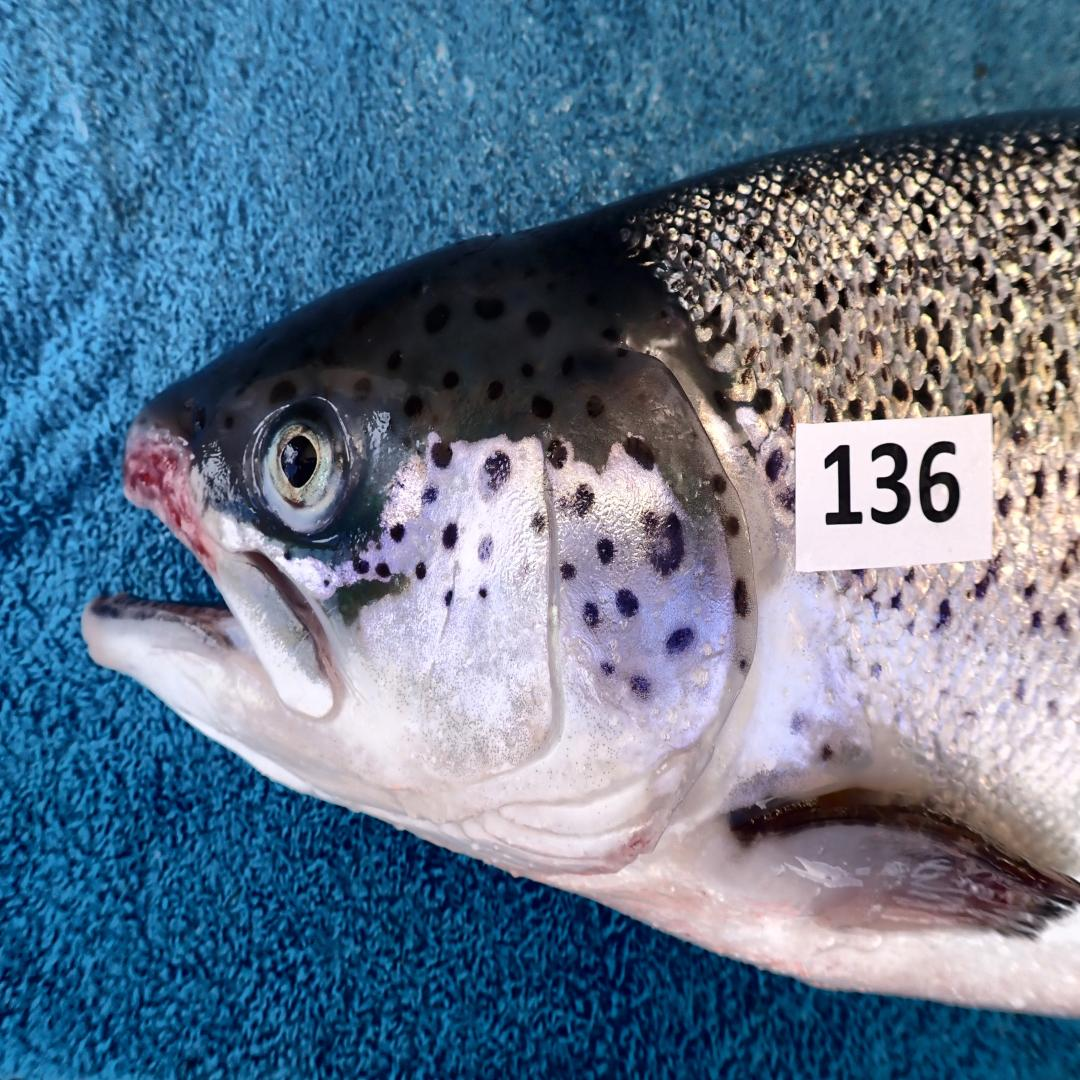spot: (641, 508, 683, 577), (478, 449, 510, 503), (559, 484, 595, 522), (624, 433, 656, 470), (667, 627, 694, 652), (734, 577, 750, 618), (546, 439, 567, 470), (616, 588, 639, 616), (430, 442, 454, 467), (597, 537, 614, 565), (631, 675, 650, 698), (582, 602, 599, 627), (479, 534, 494, 560), (443, 523, 458, 548), (712, 474, 728, 495), (726, 515, 740, 537), (390, 523, 405, 543), (532, 512, 546, 532), (422, 487, 439, 503), (561, 562, 576, 579), (355, 559, 370, 575), (375, 564, 390, 580), (602, 661, 615, 677), (416, 562, 426, 579), (445, 591, 454, 608), (478, 588, 487, 600), (739, 660, 746, 672)
